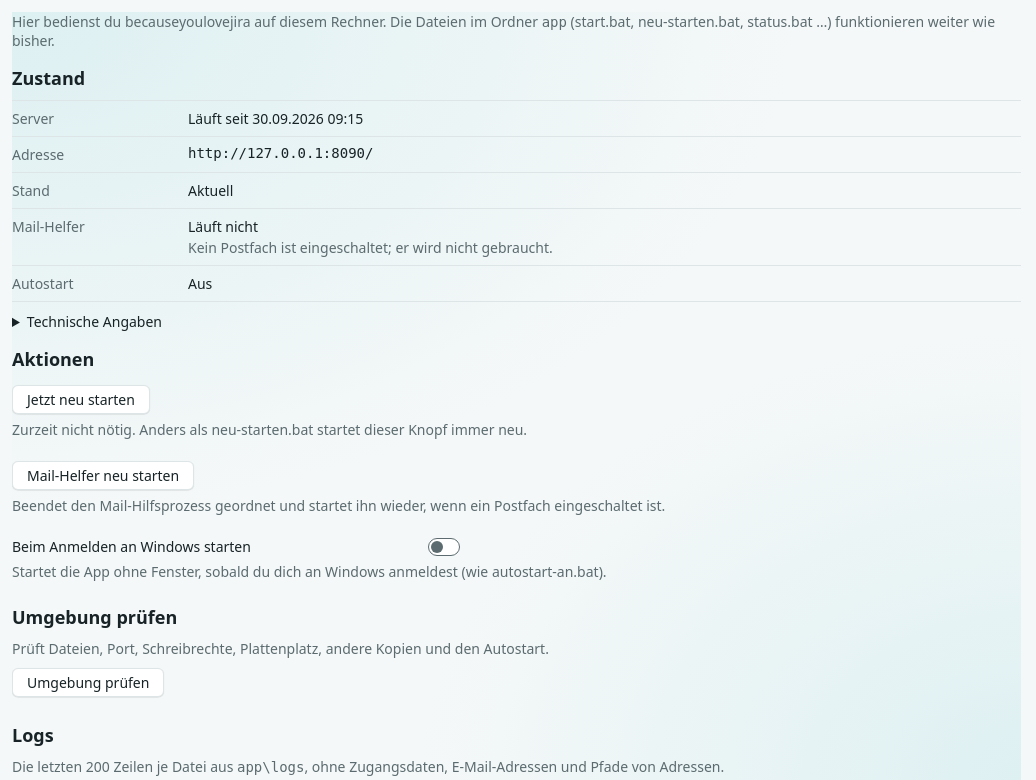
page System › shows a refused action next to the actions
The width and height of the screenshot is (1036, 780).
Click the button "Mail-Helfer neu starten" at (103, 476), box 12,461 -> 194,490
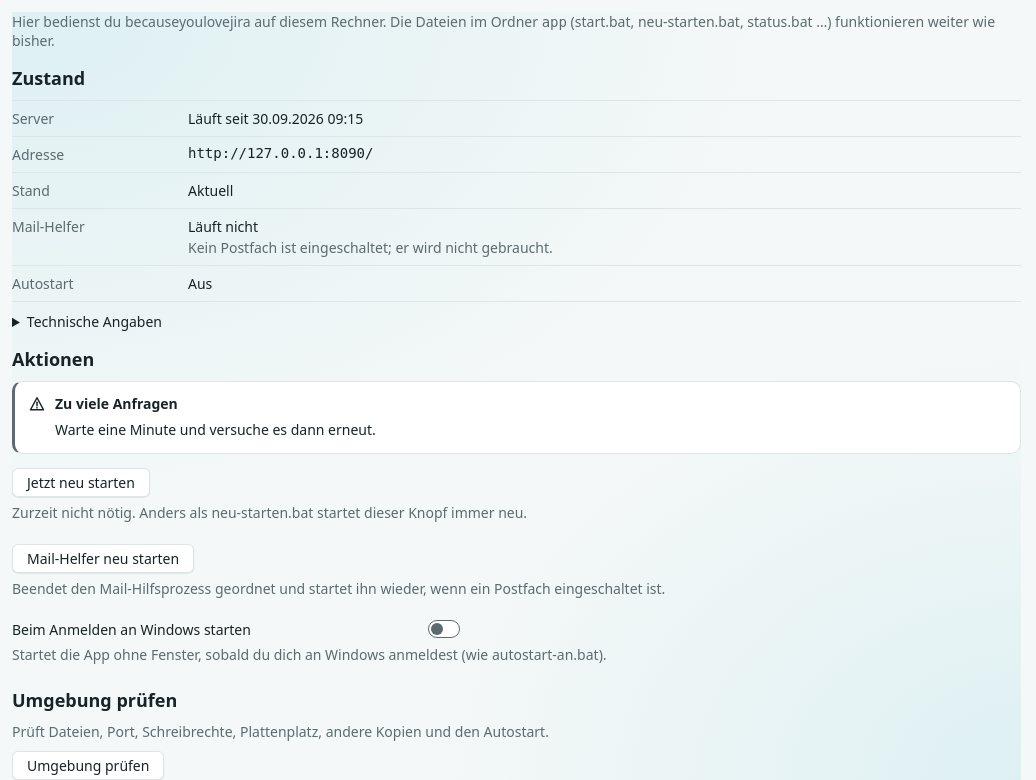
Expected: the heading "Zu viele Anfragen" is shown, 54,393 -> 178,413
